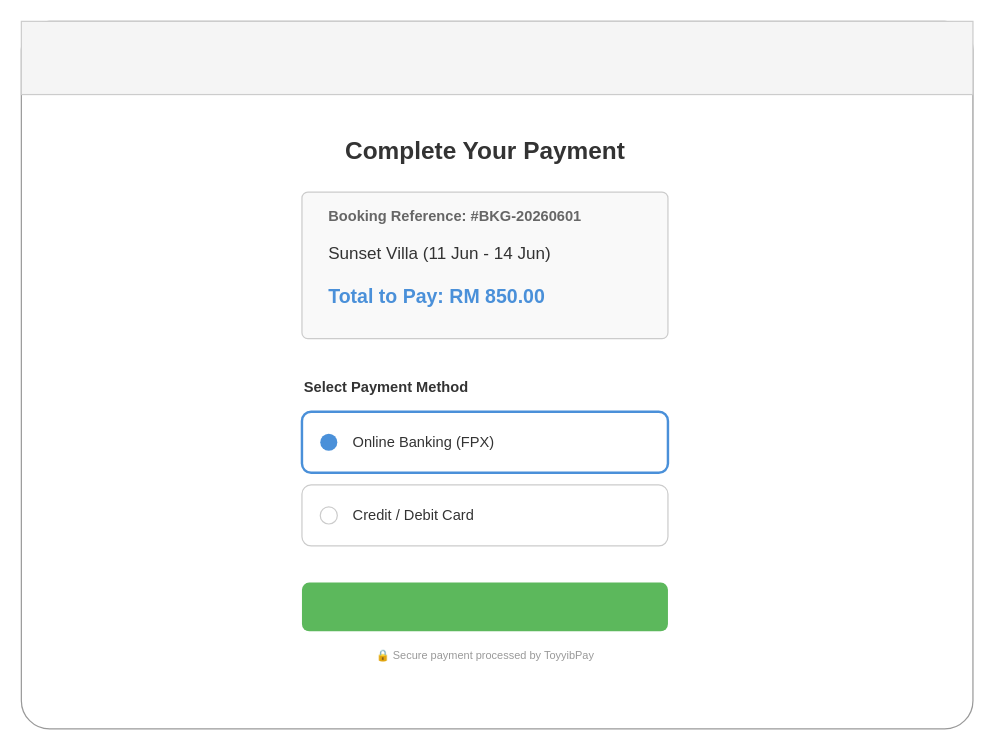
The diagram is 994 pixels wide and 750 high, and some of its shapes have lost their labels. The shapes that lost their labels are listed below. From the top down, each one's centre as x and y in pixels, then its label:
(x=496, y=57): HomeLodge
(x=484, y=606): Proceed to ToyyibPay
